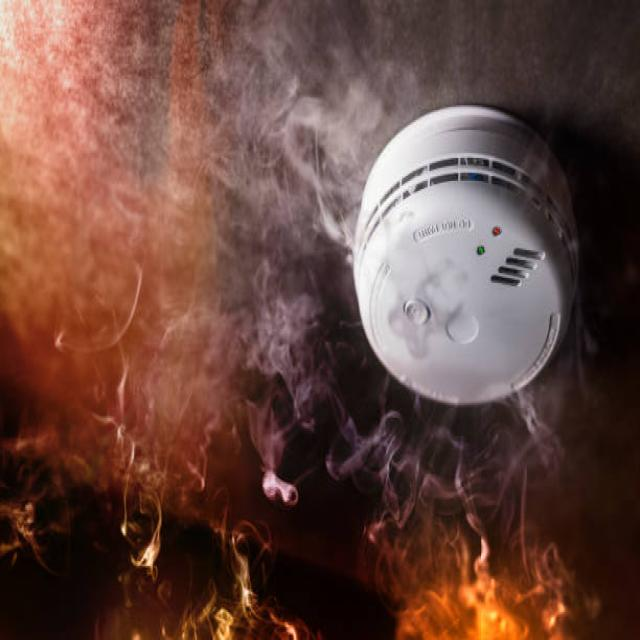smoke: (220, 4, 360, 455), (370, 382, 580, 520), (365, 10, 598, 117)
